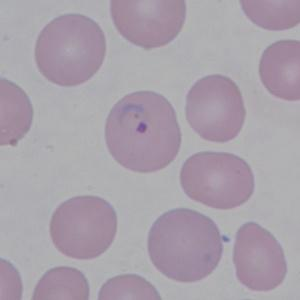Infected: (104, 90, 181, 172)
Uninfected: (147, 210, 222, 282), (35, 14, 106, 88), (48, 194, 116, 260), (181, 150, 256, 209), (185, 74, 246, 141), (232, 222, 287, 291), (111, 0, 187, 48), (259, 38, 300, 102)
